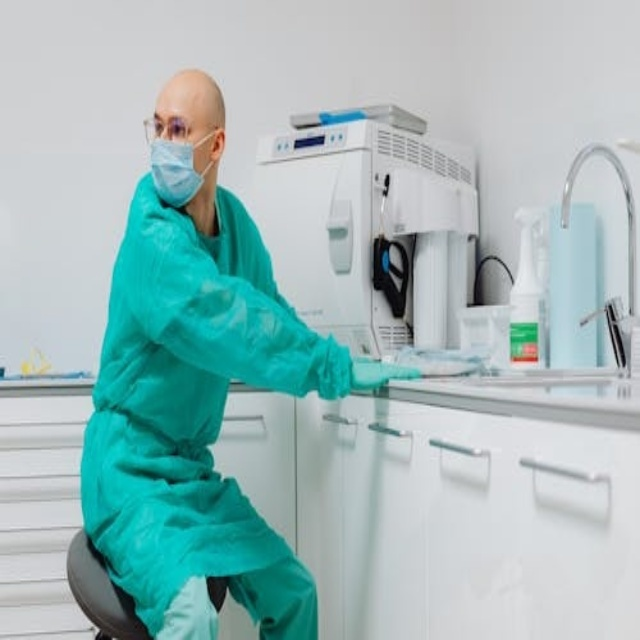Gafas: (138, 108, 209, 148)
Guantes: (343, 334, 426, 407)
Mascara: (148, 129, 214, 206)
